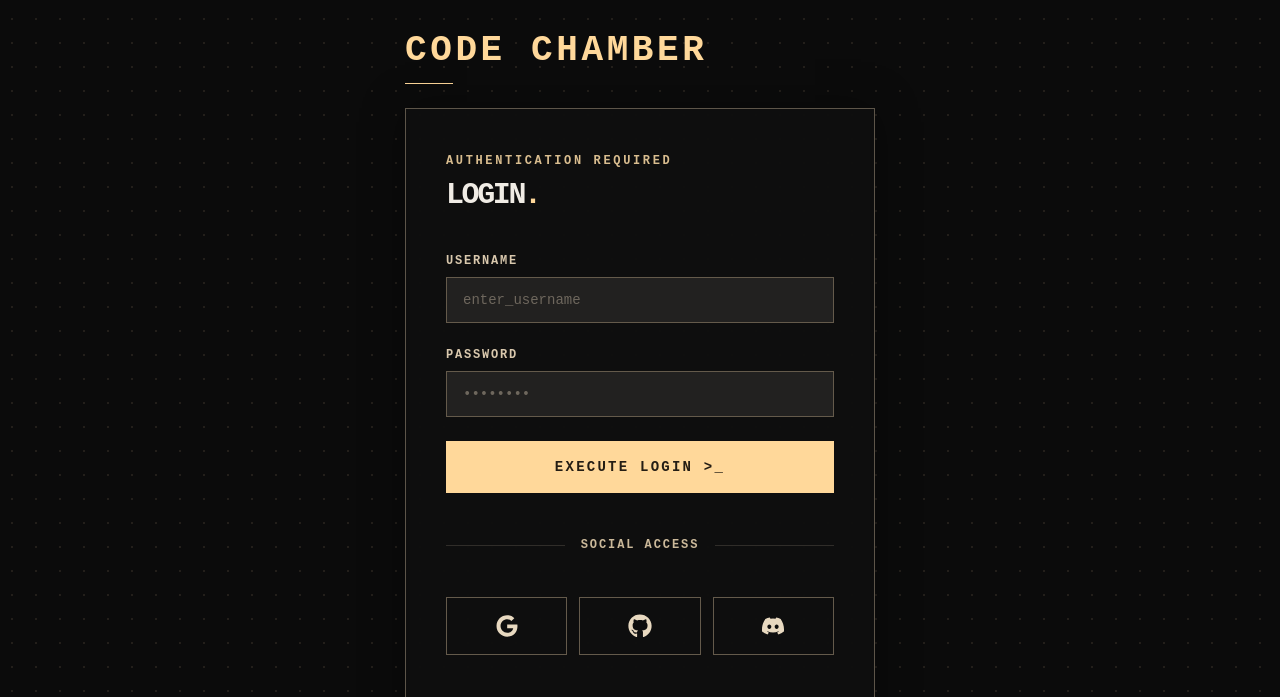
Test: Login - social login › shows an error message when signIn.social returns an error
The width and height of the screenshot is (1280, 697).
Step 1. Click the button named "Continue with Google" → (507, 626), box [446, 597, 567, 655]
(page scrolled)
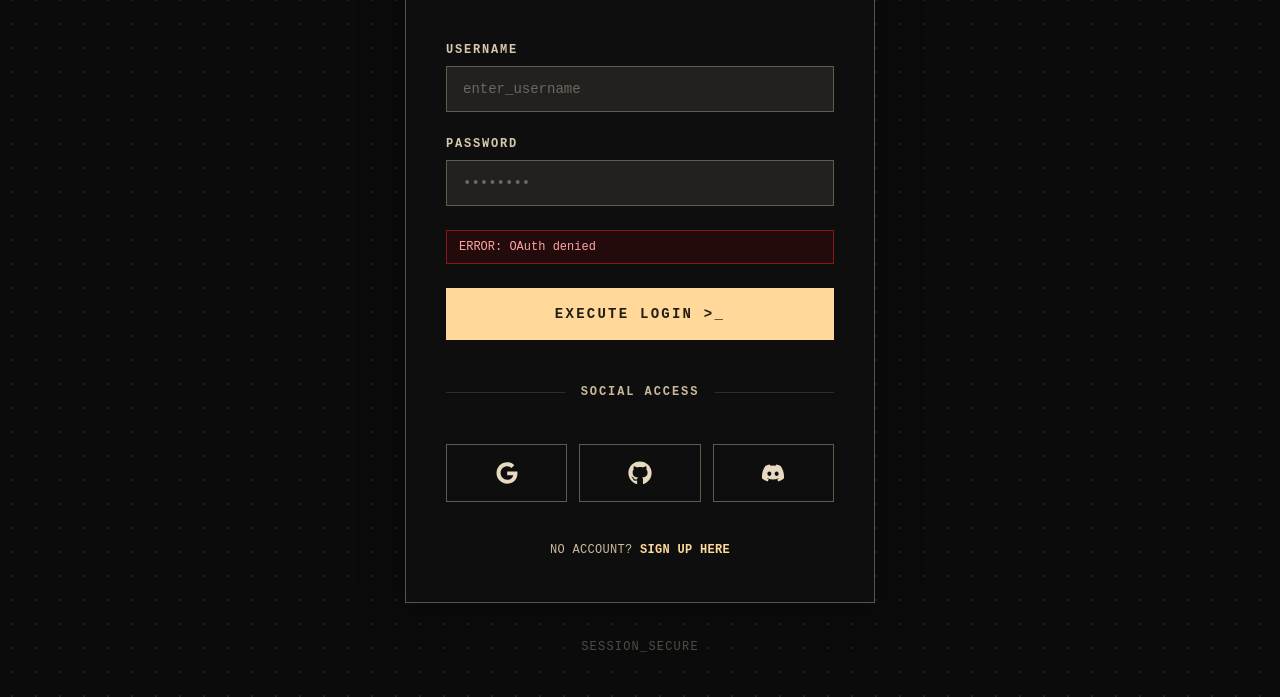
Expected: the button named "Continue with Google" is enabled, [446, 444, 567, 502]
Expected: the text "ERROR: OAuth denied" is shown, [446, 230, 834, 264]
